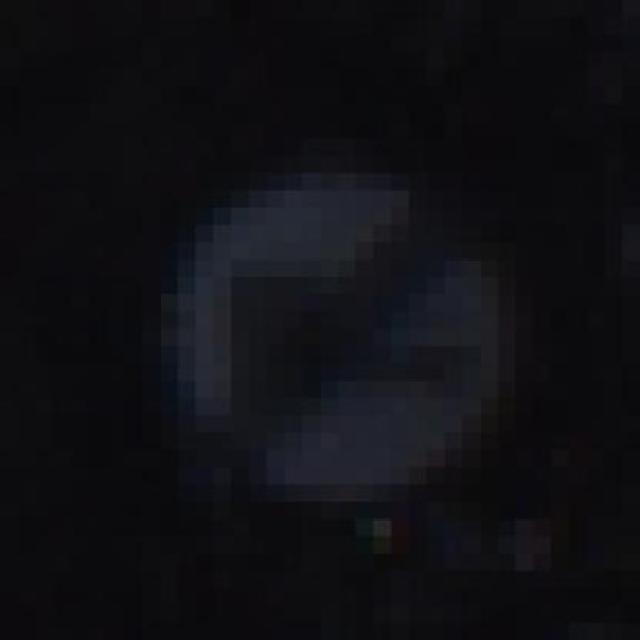Overtaking by trucks is prohibited: (106, 86, 569, 537)
